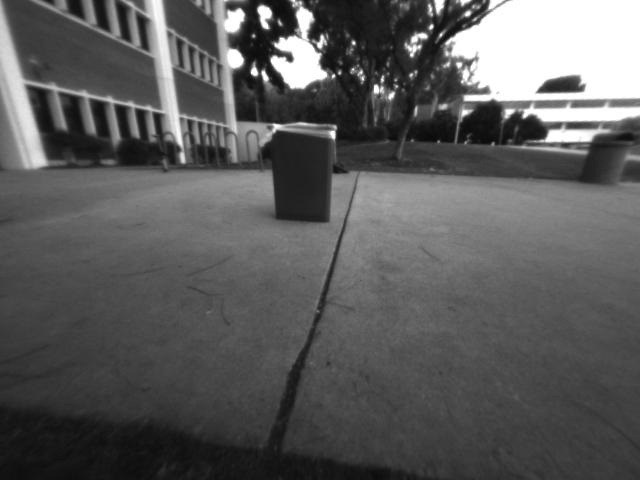trashcan_open: (268, 121, 337, 225)
